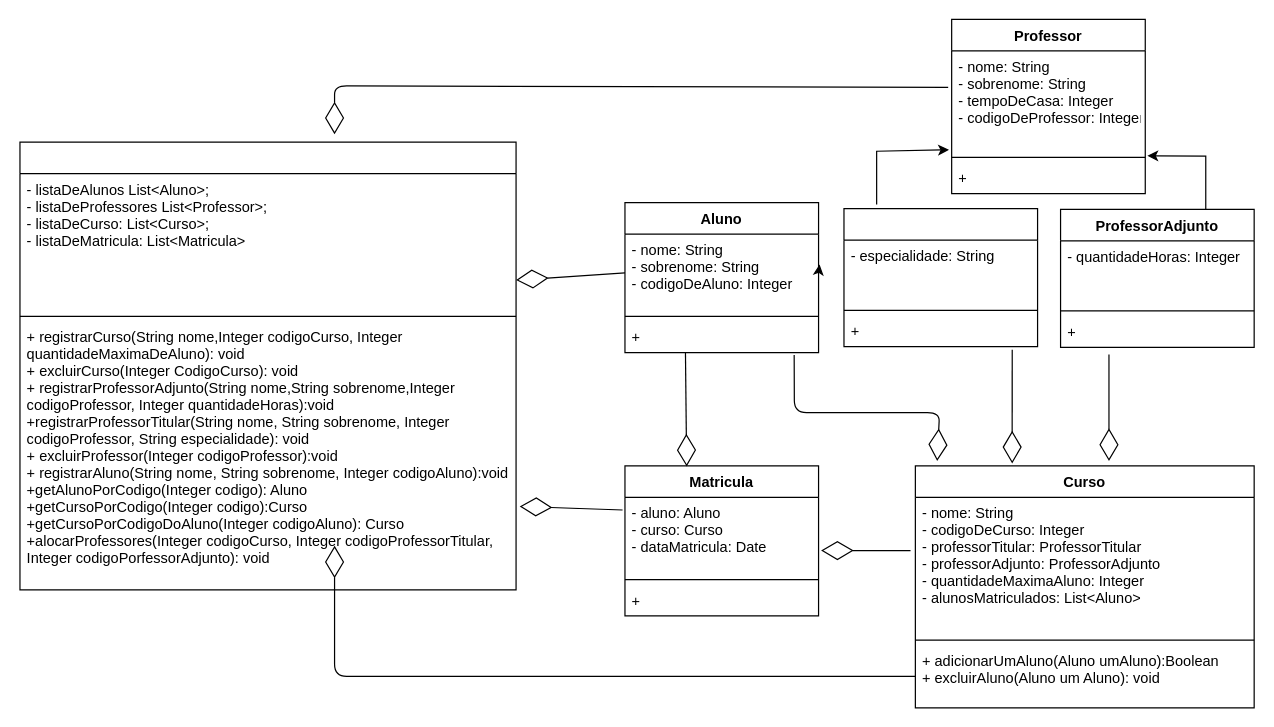
This 1274x727 diagram has some shape labels left out. Each missing label, with the box of its shape:
DigitalHouseManager: (19, 141, 516, 590)
ProfessorTitular: (843, 208, 1038, 347)
